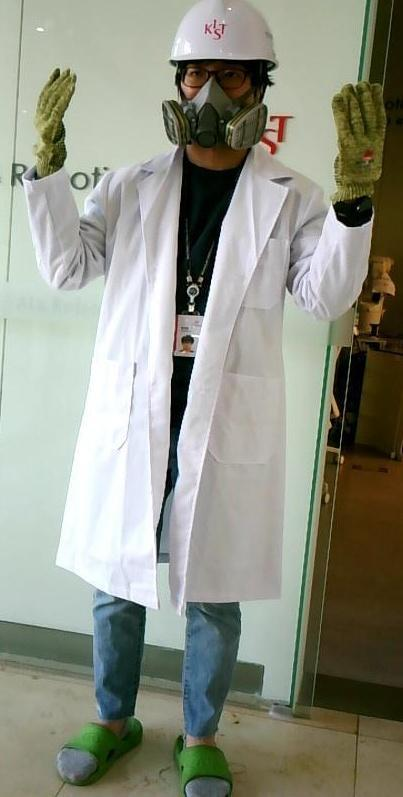lab_coat: (75, 175, 304, 592)
